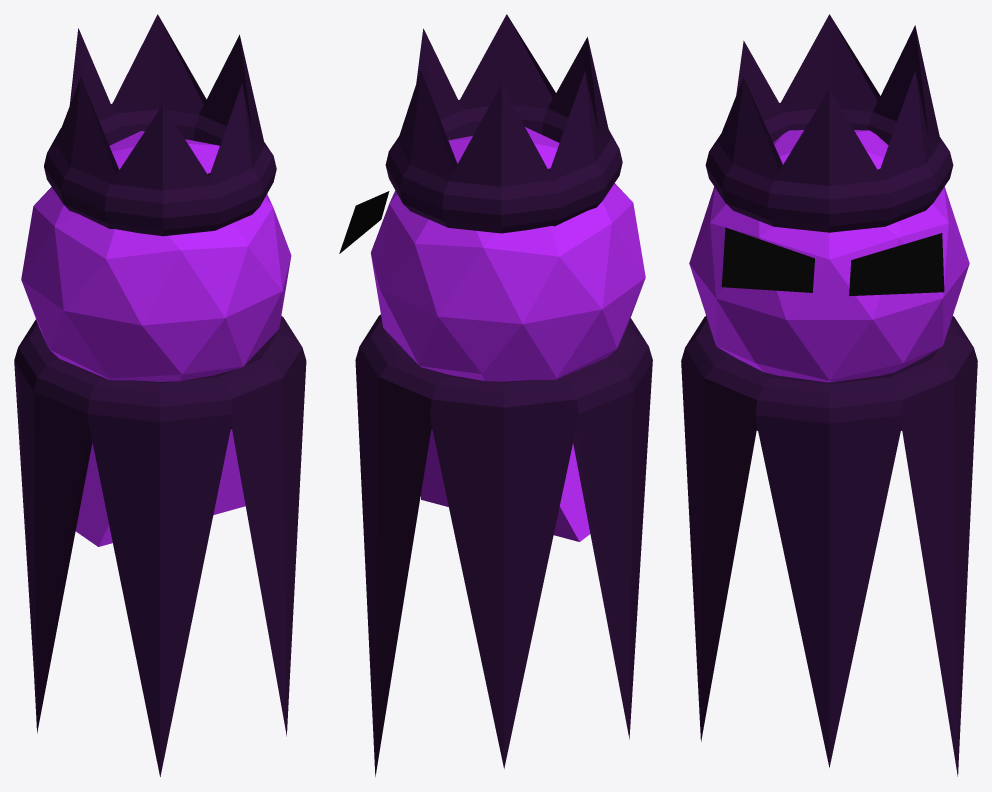
File: boss idle.fbx
3 renders of one model, left to right at view 1: azimuth 30°, elevation 25°; view 2: azimuth 150°, elevation 25°; view 3: azimuth 270°, elevation 25°, orthographic.
Parts seen in each view (by area): view 1: Torus, Icosphere, Torus.001, Cube; view 2: Torus, Icosphere, Torus.001, Cube, Plane.001; view 3: Torus, Torus.001, Icosphere, Plane.001, Plane.
Part boxes in pixels (bbox=[...]): Torus: bbox=[14, 316, 306, 776]; Icosphere: bbox=[21, 131, 291, 381]; Torus.001: bbox=[44, 14, 276, 236]; Cube: bbox=[75, 429, 245, 546]; Torus: bbox=[355, 314, 652, 776]; Icosphere: bbox=[371, 127, 645, 381]; Torus.001: bbox=[385, 14, 622, 233]; Cube: bbox=[420, 430, 590, 541]; Plane.001: bbox=[339, 191, 389, 253]; Torus: bbox=[681, 316, 977, 776]; Torus.001: bbox=[705, 14, 953, 232]; Icosphere: bbox=[689, 130, 969, 382]; Plane.001: bbox=[849, 233, 944, 296]; Plane: bbox=[721, 227, 814, 292].
Size of the model in its own units: 250 by 653 by 250.
